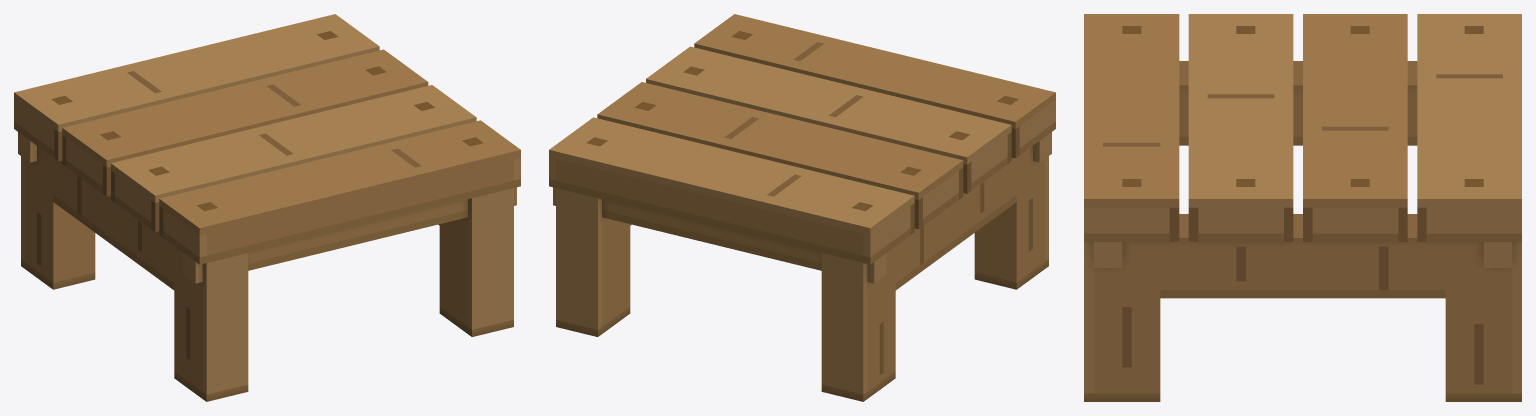
The model's file is dining_table.glb.
3 renders of one model, left to right at view 1: azimuth 30°, elevation 25°; view 2: azimuth 150°, elevation 25°; view 3: azimuth 270°, elevation 25°, orthographic. The views are drawn at different scales.
Visible parts, largest first — view 1: VoxelVisual; view 2: VoxelVisual; view 3: VoxelVisual.
Boxes of the visible parts, left/top/right/bottom form: VoxelVisual: left=14, top=14, right=520, bottom=401; VoxelVisual: left=549, top=14, right=1055, bottom=401; VoxelVisual: left=1084, top=14, right=1521, bottom=401.
Size of what is drawn, in the model's own units: 2.88 by 1.5 by 2.88.
